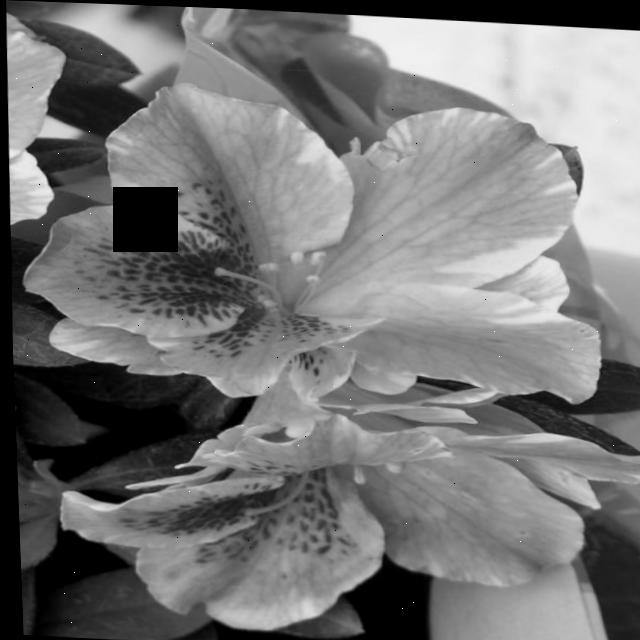azalea: (47, 79, 605, 412), (75, 374, 615, 637)
